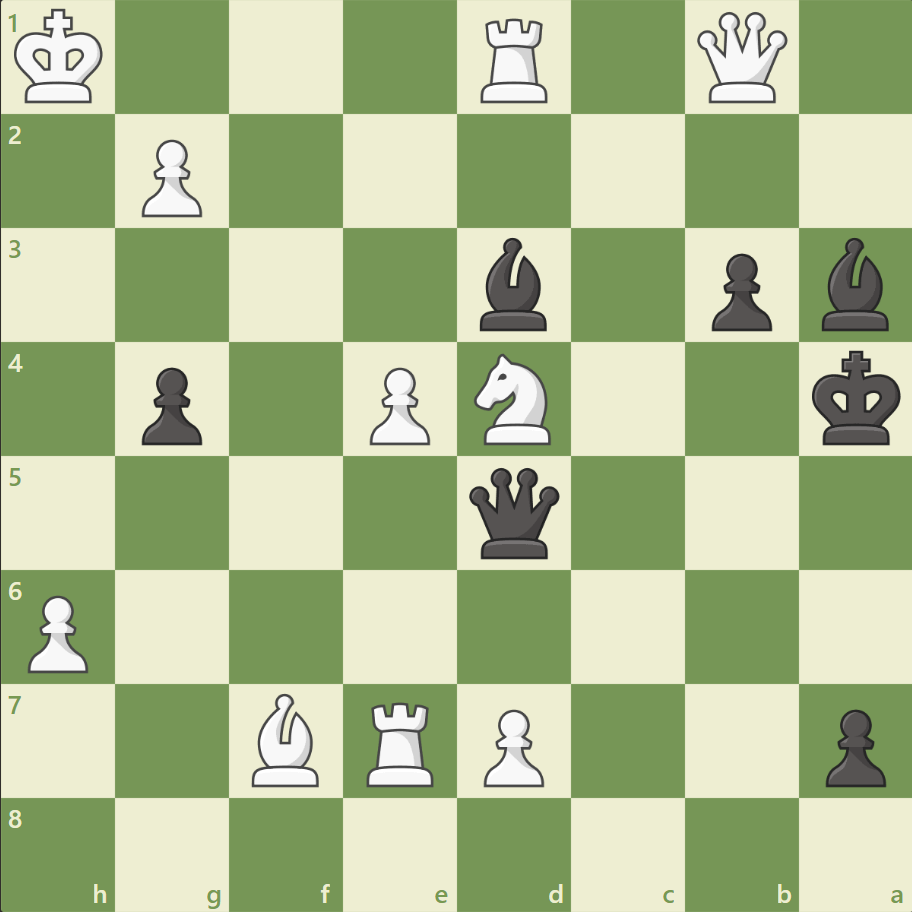B: (244, 687, 328, 790)
K: (11, 4, 111, 112)
N: (465, 348, 562, 450)
P: (474, 700, 549, 791), (20, 586, 95, 677), (133, 132, 208, 223), (361, 359, 435, 450)
Q: (691, 9, 790, 108)
R: (473, 12, 556, 109), (360, 693, 442, 790)
b: (812, 233, 896, 336), (471, 233, 555, 336)
k: (806, 344, 906, 452)
p: (133, 359, 208, 450), (701, 246, 776, 337), (815, 700, 889, 791)
q: (464, 463, 563, 562)
